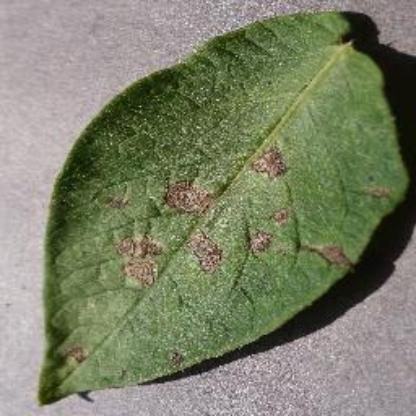Early-Blight: (35, 6, 415, 406)
